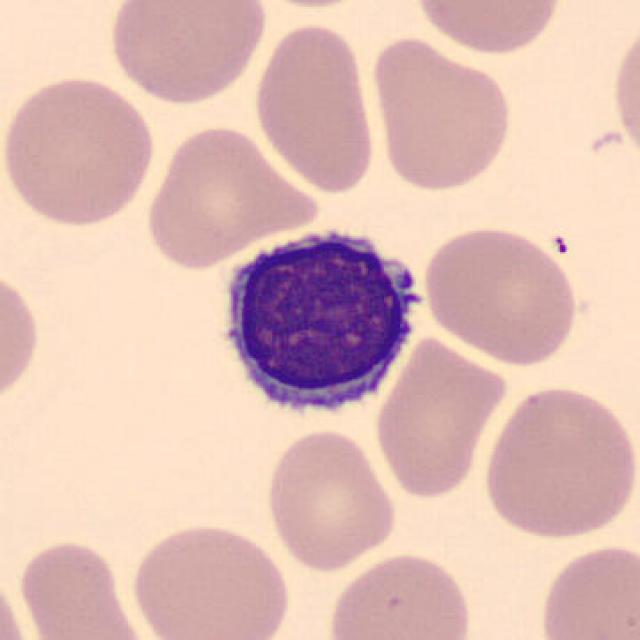Lymphocyte: (206, 213, 432, 434)
RBC: (139, 122, 320, 270), (478, 381, 638, 543), (0, 72, 158, 231), (368, 32, 516, 194), (419, 222, 582, 367), (372, 332, 510, 502), (249, 19, 380, 198), (261, 425, 400, 573), (126, 518, 294, 640), (105, 0, 270, 108), (12, 536, 156, 640), (324, 548, 476, 640), (533, 539, 638, 640), (411, 0, 567, 58), (0, 262, 44, 412), (608, 18, 640, 168), (0, 562, 36, 640)
